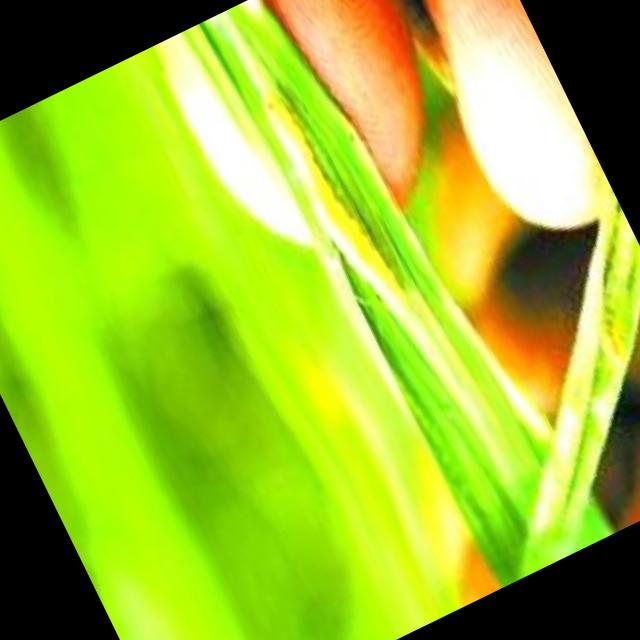leaf-folder: (217, 13, 490, 410), (549, 207, 640, 411)
